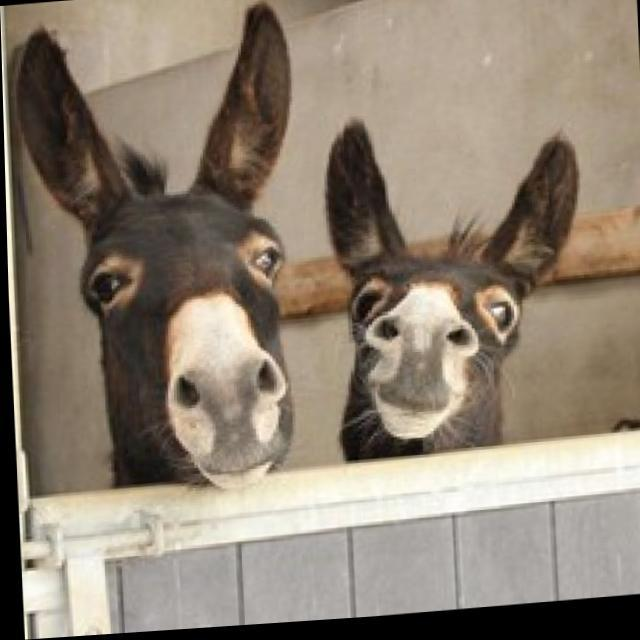Donkey: (7, 0, 306, 505), (317, 106, 588, 463)
